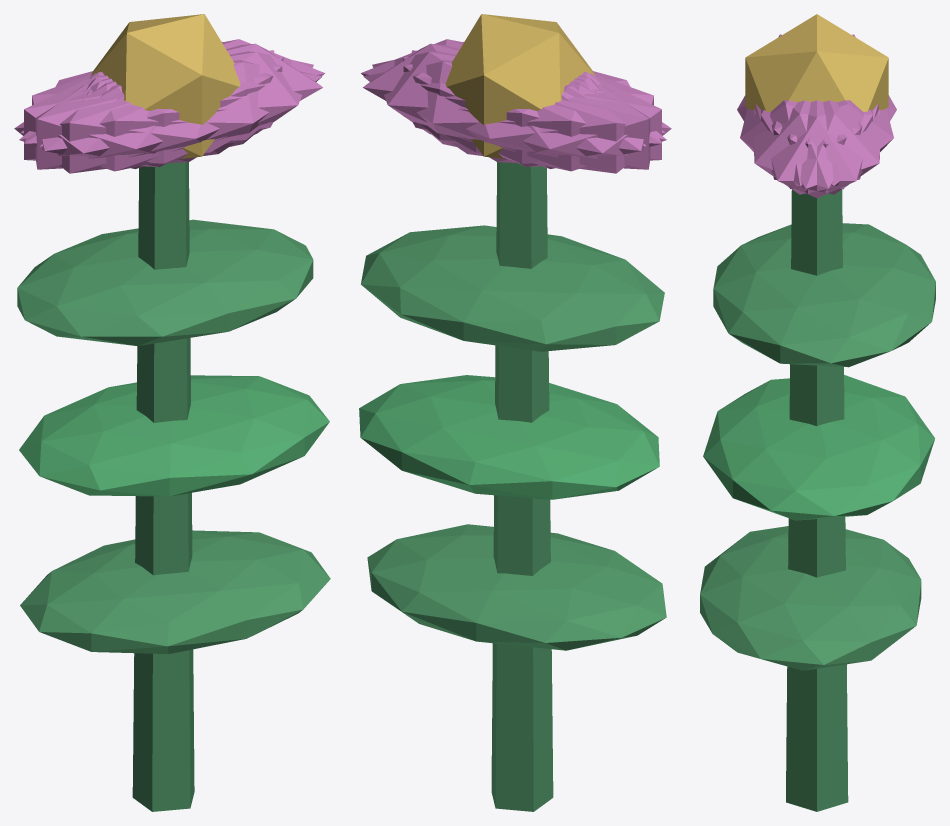
Rendered from melanolepis-multiglandulosa.glb.
3 renders of one model, left to right at view 1: azimuth 30°, elevation 25°; view 2: azimuth 150°, elevation 25°; view 3: azimuth 270°, elevation 25°, orthographic.
Parts seen in each view (by area): view 1: leaf1, leaf0, leaf2, stem, center, petal1, petal6, petal2, petal5, petal7, petal0, petal4 (+2 smaller); view 2: leaf2, leaf1, leaf0, stem, center, petal8, petal3, petal7, petal4, petal2, petal0, petal5 (+2 smaller); view 3: leaf1, leaf2, leaf0, stem, center, petal0, petal4, petal5, petal8, petal1.
Boxes of the visible parts, x1,y1,x2,y2 form: leaf1: (19, 375, 329, 496); leaf0: (20, 530, 330, 653); leaf2: (17, 219, 313, 346); stem: (132, 162, 194, 811); center: (91, 14, 240, 158); petal1: (19, 60, 322, 171); petal6: (14, 73, 233, 173); petal2: (35, 50, 274, 169); petal5: (39, 51, 313, 163); petal7: (24, 56, 283, 167); petal0: (90, 43, 322, 152); petal4: (20, 39, 325, 143); leaf2: (361, 225, 664, 351); leaf1: (359, 375, 659, 499); leaf0: (367, 524, 666, 650); stem: (491, 162, 553, 811); center: (445, 14, 594, 158); petal8: (363, 60, 666, 171); petal3: (452, 73, 671, 173); petal7: (411, 50, 650, 169); petal4: (372, 51, 646, 163); petal2: (403, 56, 661, 167); petal0: (363, 43, 595, 152); petal5: (361, 39, 665, 143); leaf1: (703, 375, 934, 520); leaf2: (713, 223, 935, 367); leaf0: (700, 526, 921, 670); stem: (786, 189, 848, 811); center: (745, 14, 888, 111); petal0: (755, 100, 878, 197); petal4: (761, 100, 880, 194); petal5: (753, 100, 872, 194); petal8: (771, 100, 893, 186); petal1: (740, 100, 862, 186).
Size of the model in its own units: 0.1452 by 0.3606 by 0.1007.
